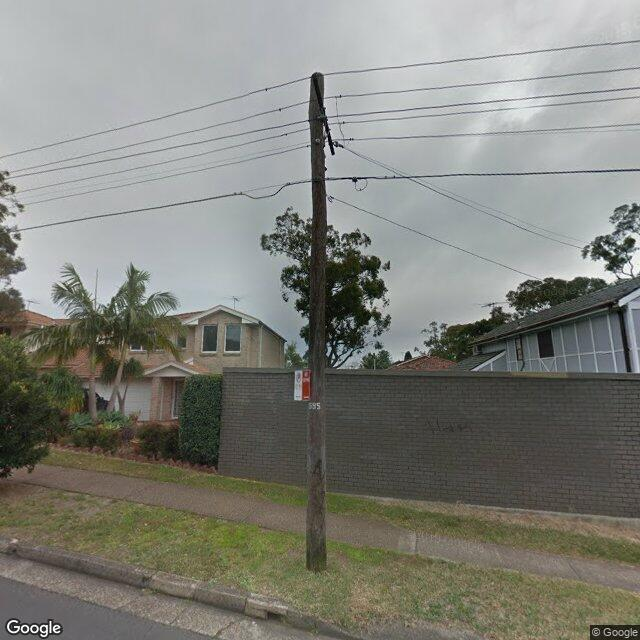crossarm: (312, 76, 336, 156)
timber-pole: (306, 72, 327, 571)
